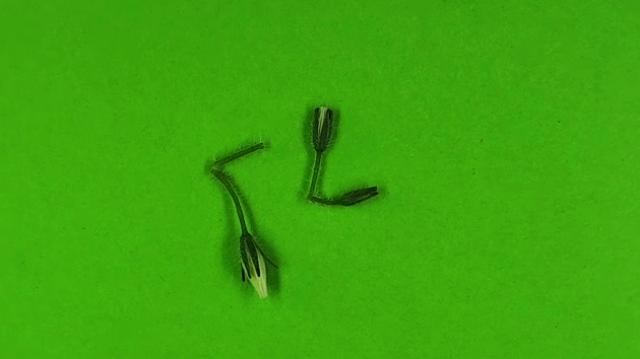Flower Bud: (238, 234, 277, 300), (310, 185, 380, 207), (311, 106, 335, 151)
